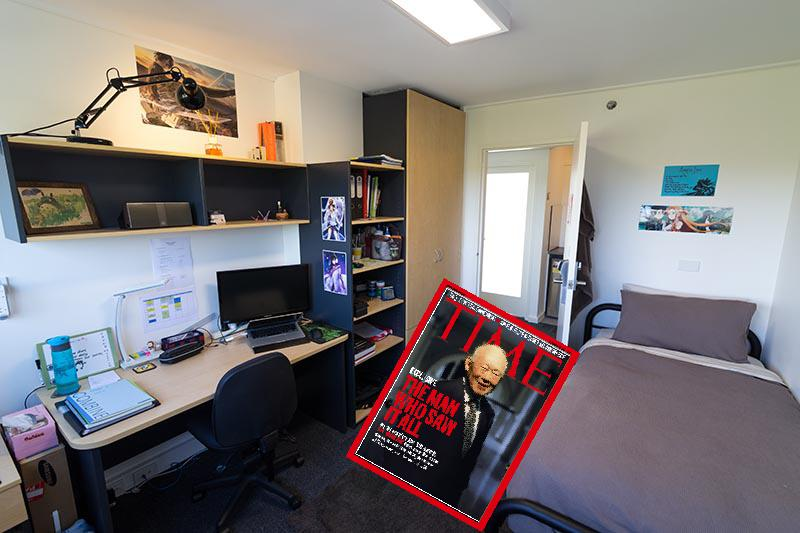times: (345, 277, 579, 533)
